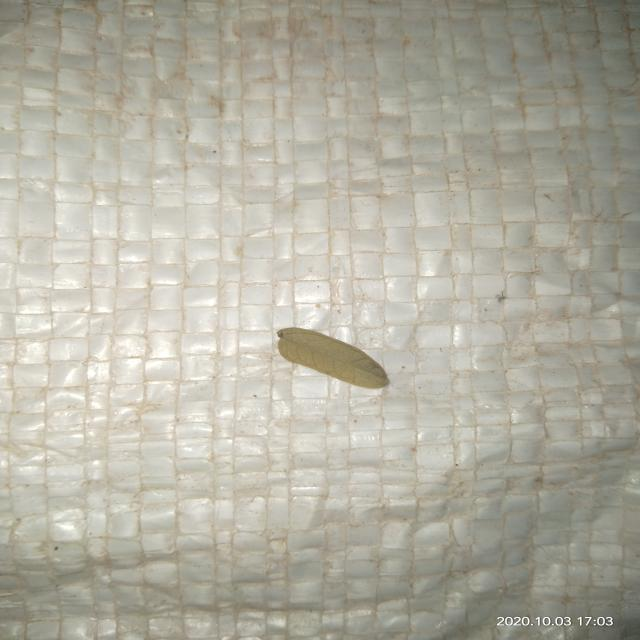tamarind: (277, 328, 388, 389)
